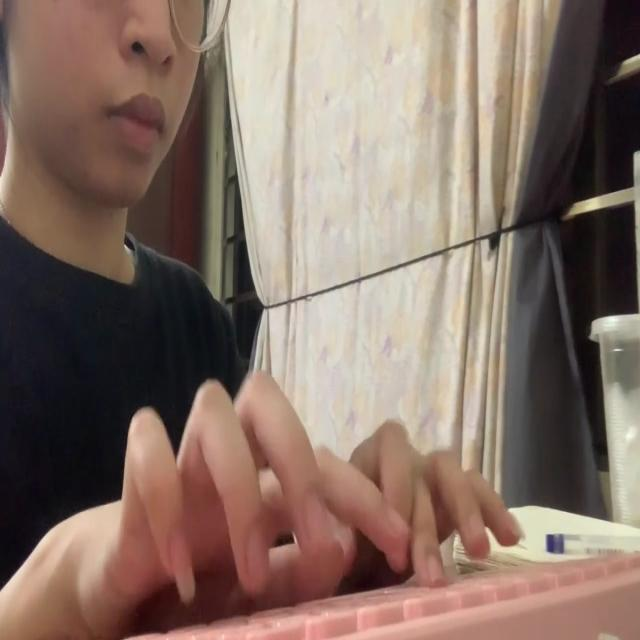student: (0, 0, 524, 640)
